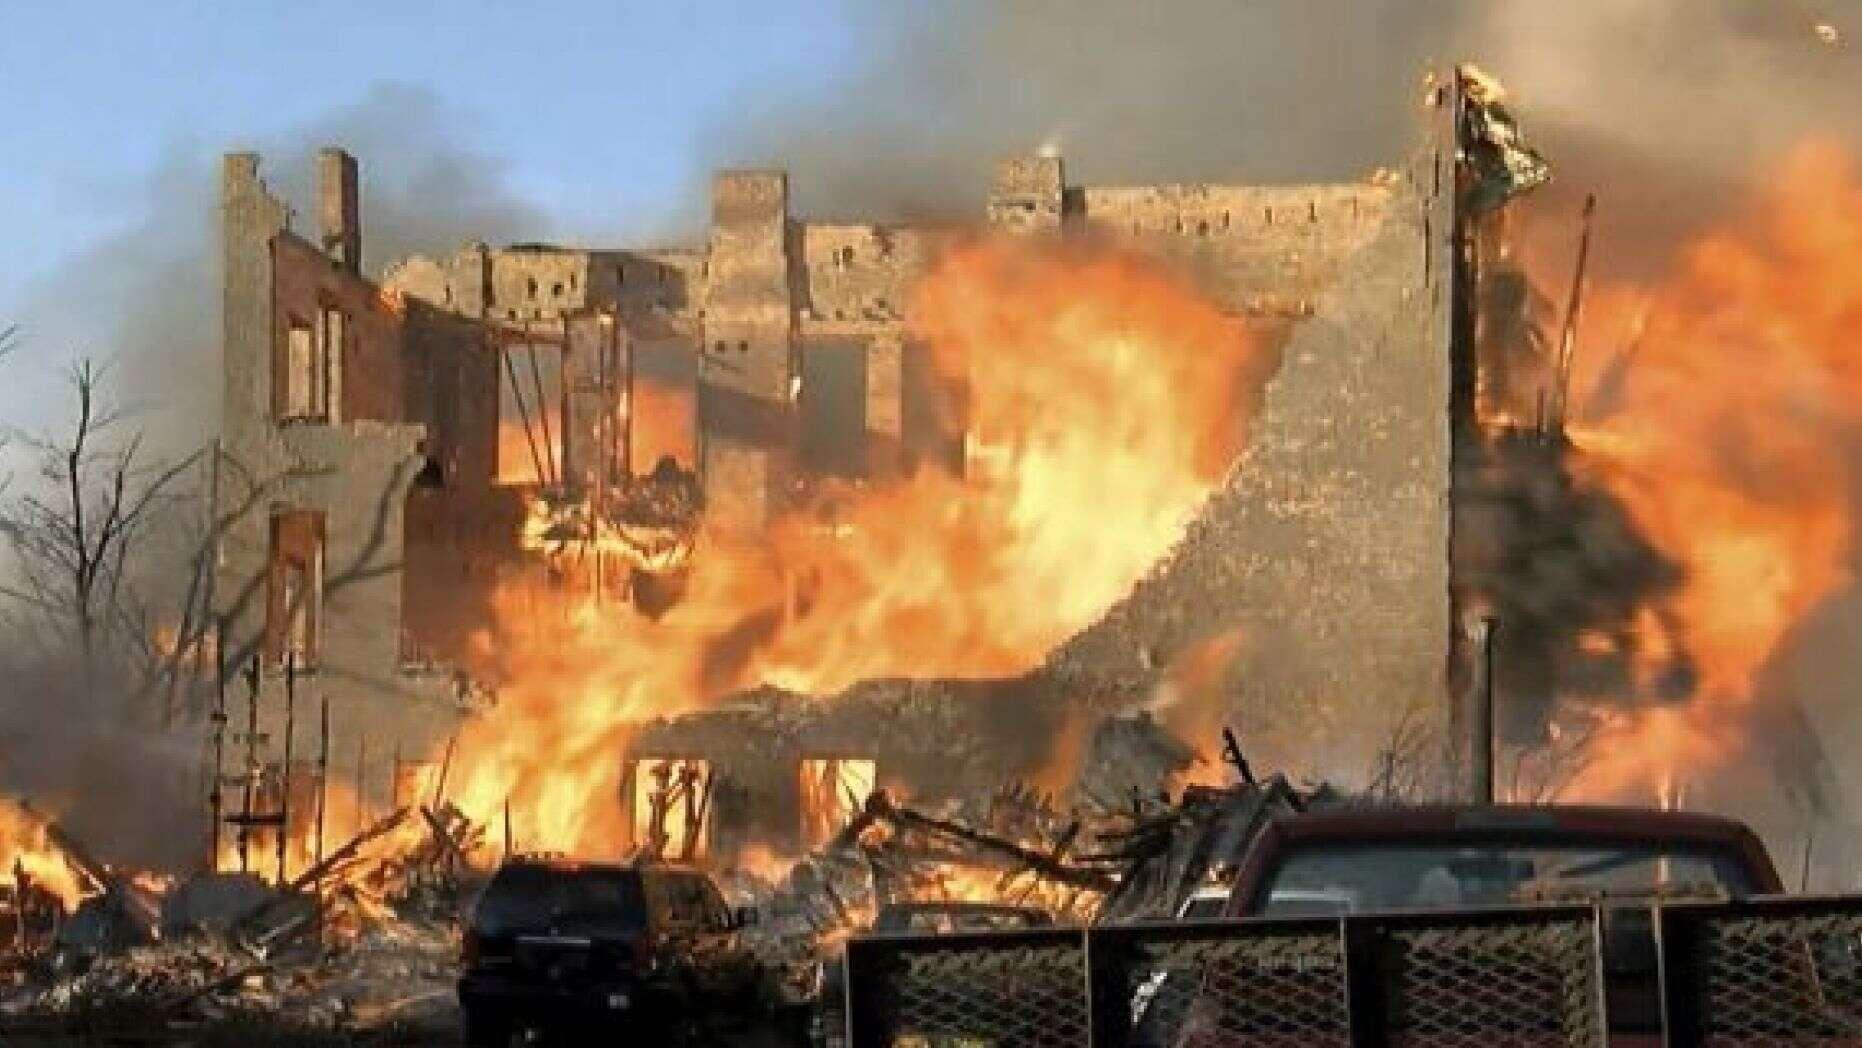fire: (1640, 239, 1861, 636), (757, 449, 1073, 684), (490, 564, 704, 844), (970, 229, 1219, 459)
smoke: (961, 10, 1809, 160)
